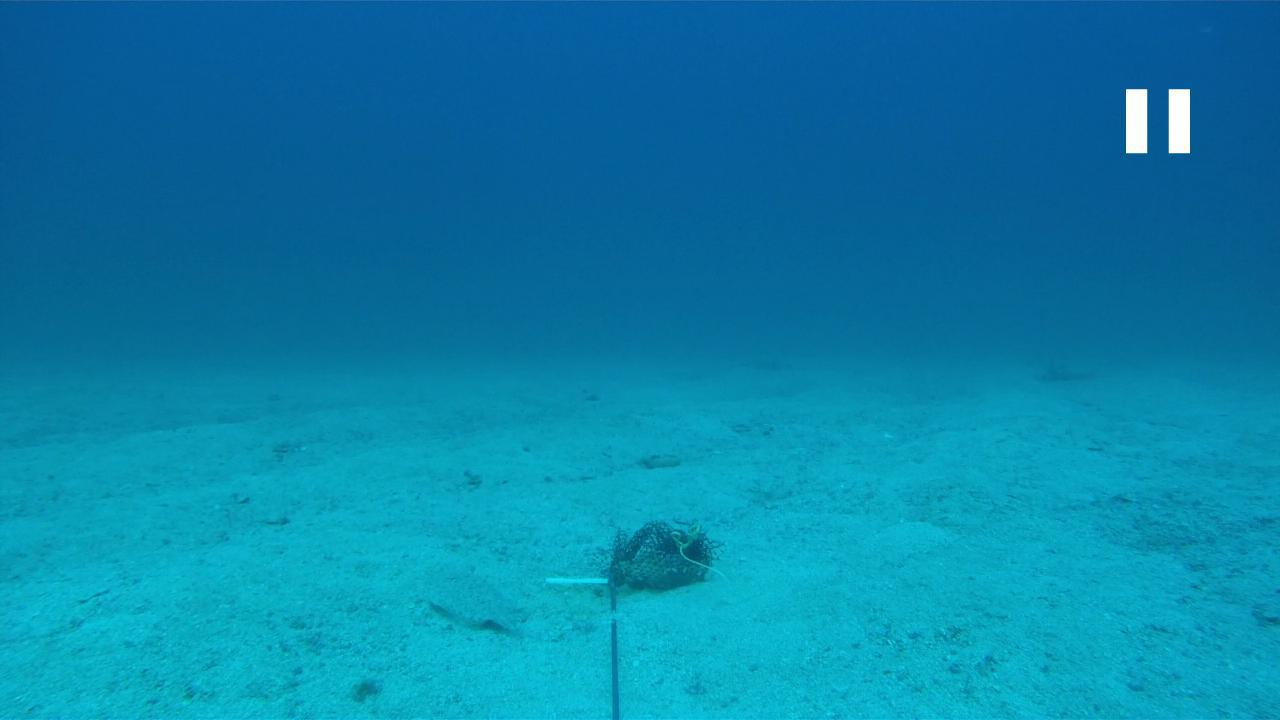bothus: (420, 562, 534, 639)
